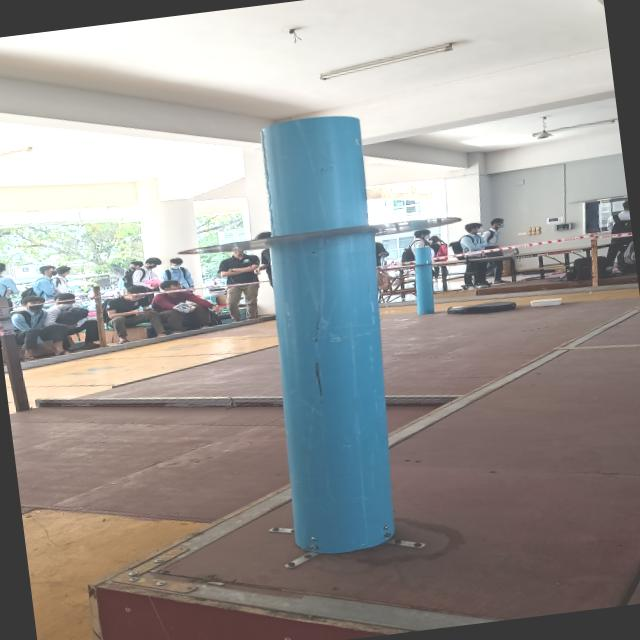pole: (165, 96, 483, 356)
